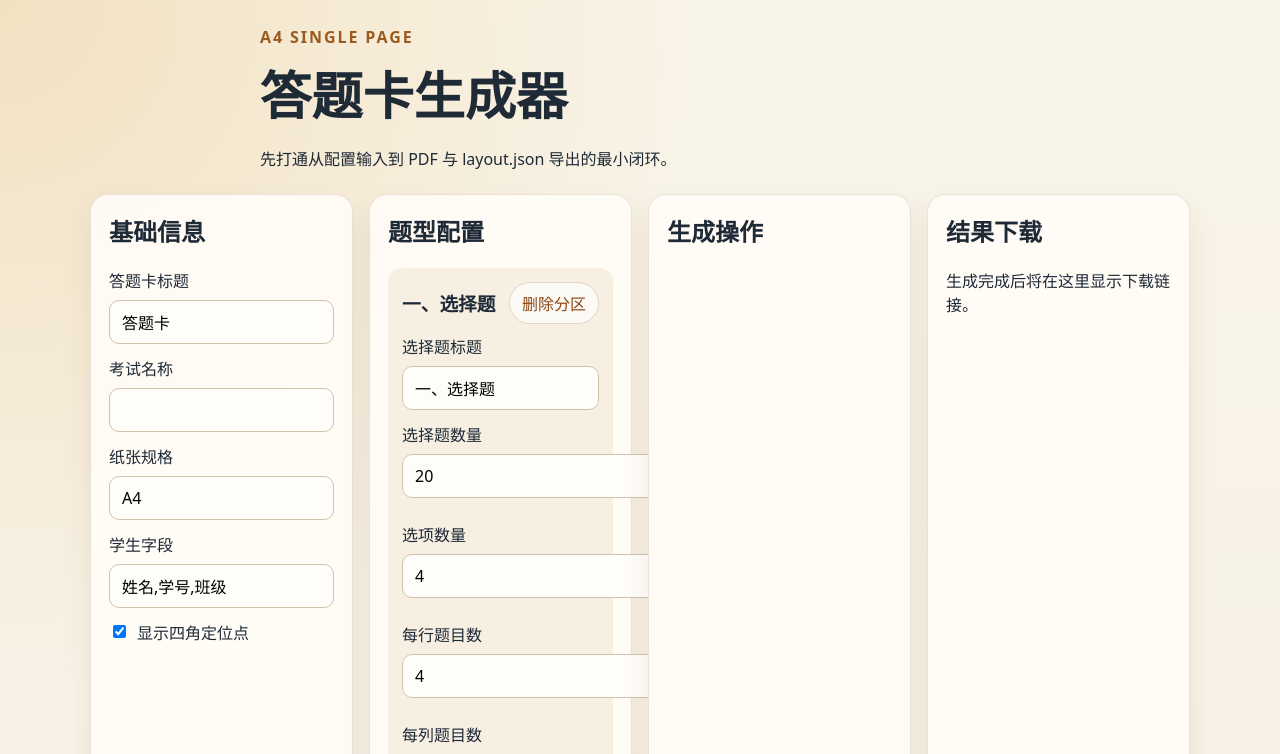
blocks submit when required basic info is missing
Clear the field labelled "答题卡标题" at (222, 322), box x1=109 y1=300 x2=334 y2=344
(page scrolled)
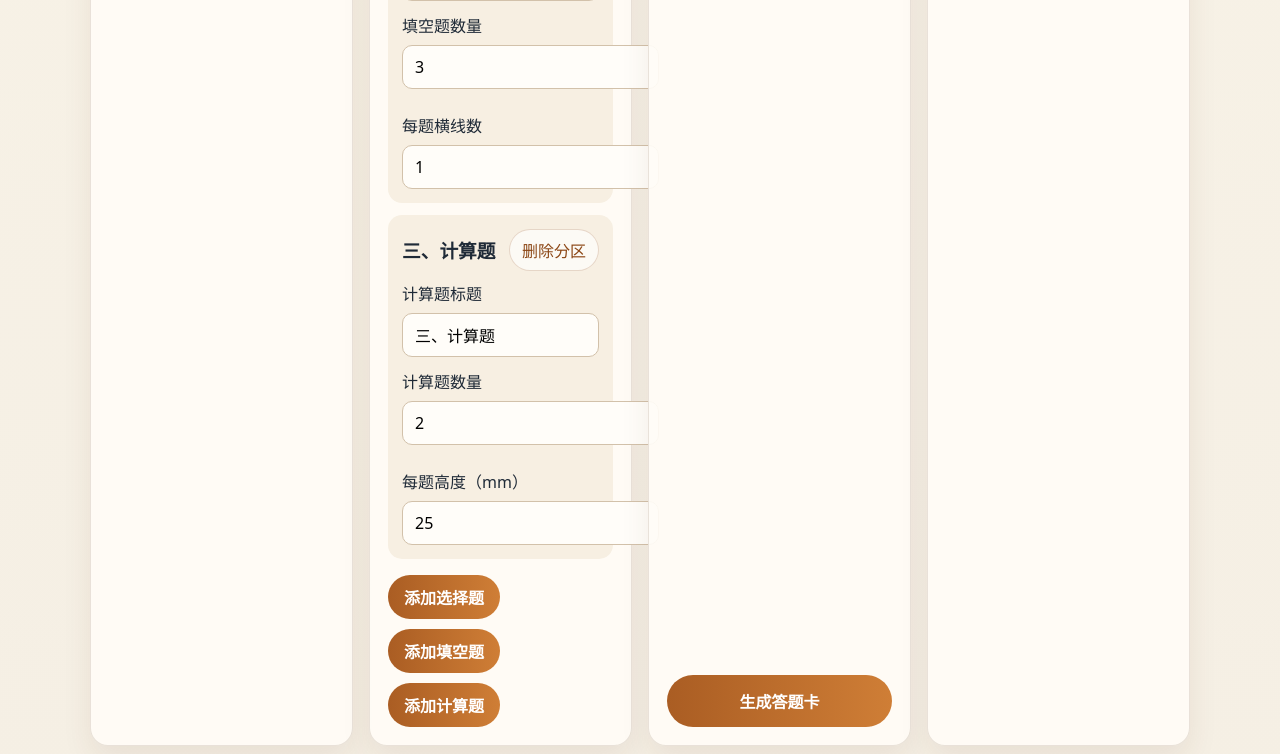
Click the button "生成答题卡" at (780, 701), box x1=667 y1=675 x2=892 y2=727
(page scrolled)
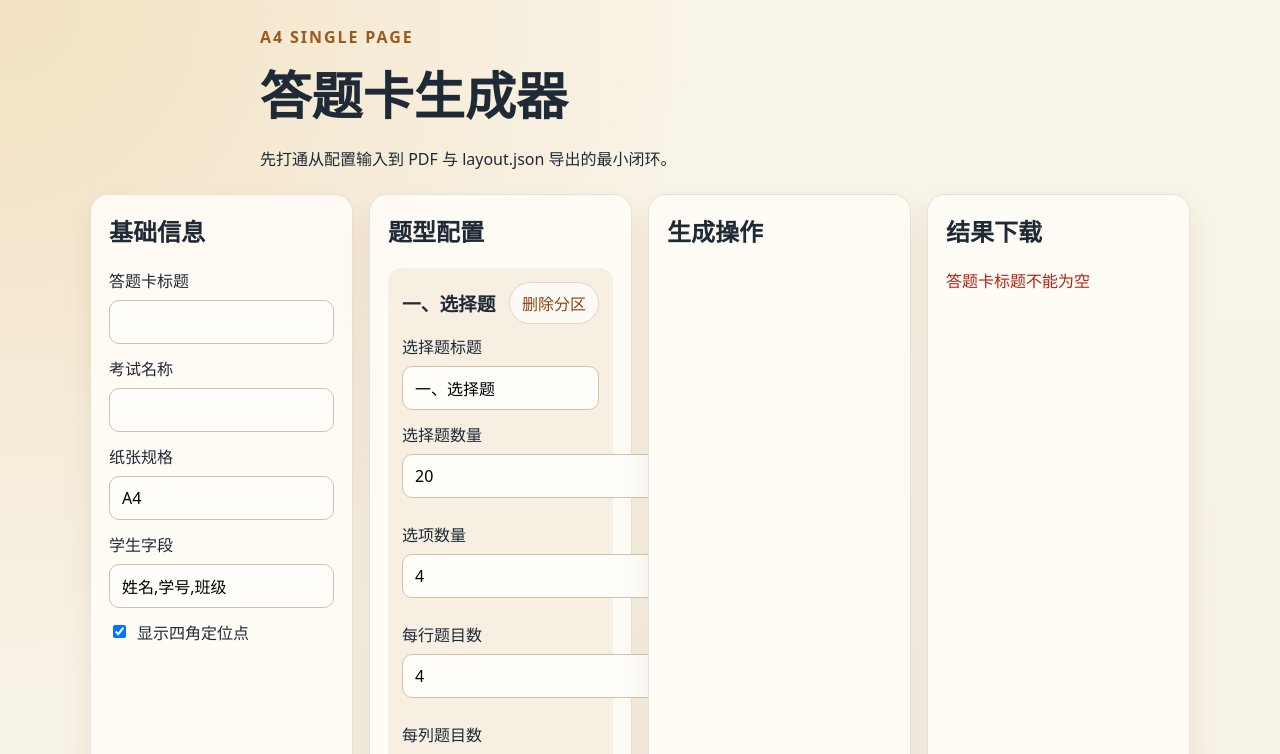
Expected: the text "答题卡标题不能为空" is shown, x1=946 y1=270 x2=1090 y2=292
